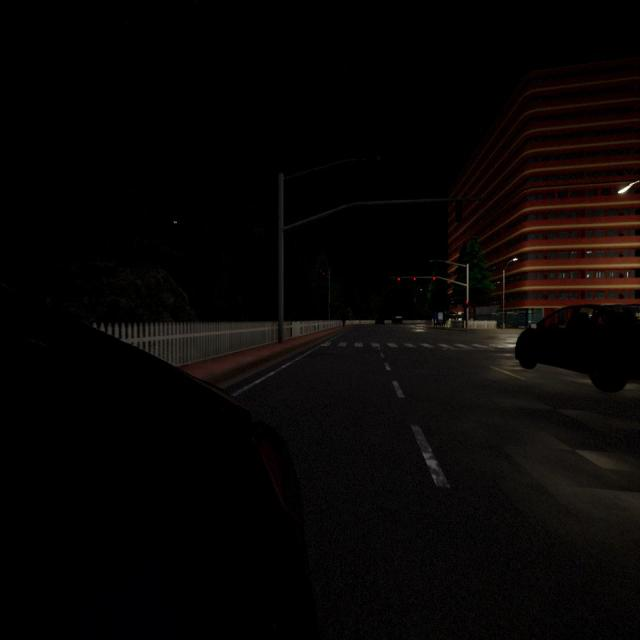Vehicle: (0, 292, 320, 640), (515, 305, 639, 392), (391, 316, 403, 325)
traffic_light: (465, 300, 469, 308), (413, 276, 416, 284), (432, 277, 436, 283), (398, 277, 400, 284)
